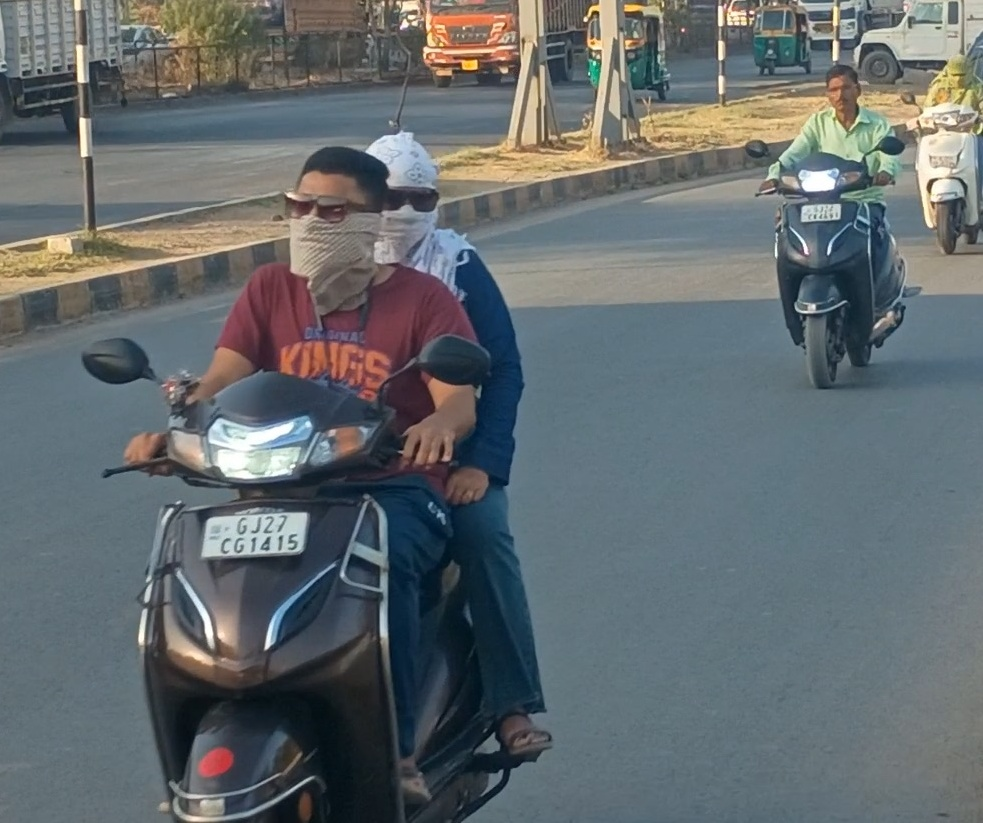BikeWithRider: (66, 123, 568, 823), (737, 56, 927, 395), (903, 47, 983, 260)
NoHelmet: (271, 138, 399, 312), (354, 126, 451, 268), (815, 58, 869, 124), (943, 50, 974, 91)
